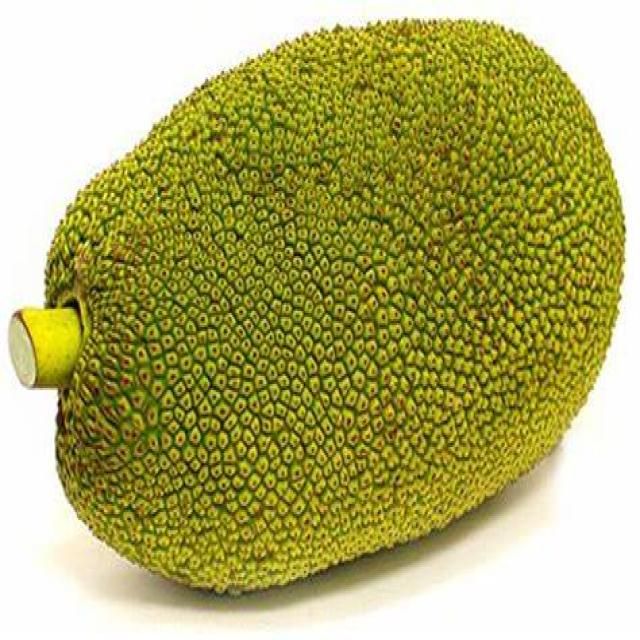Jackfruit: (12, 21, 630, 594)
